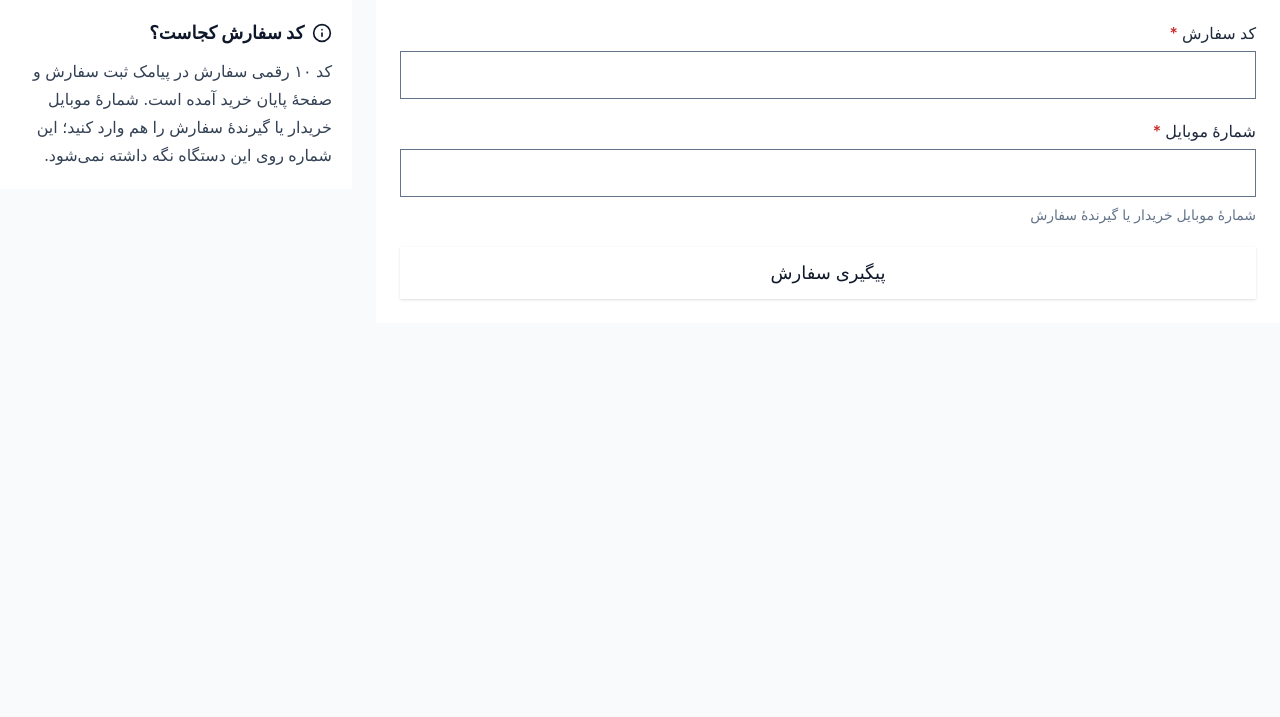
Test: a delivered order (live) › the API’s words, the dates, the count and the total; the heading takes the focus
Type "2583973877" into the field labelled "کد سفارش *" at [828, 75], box x1=401 y1=52 x2=1255 y2=98
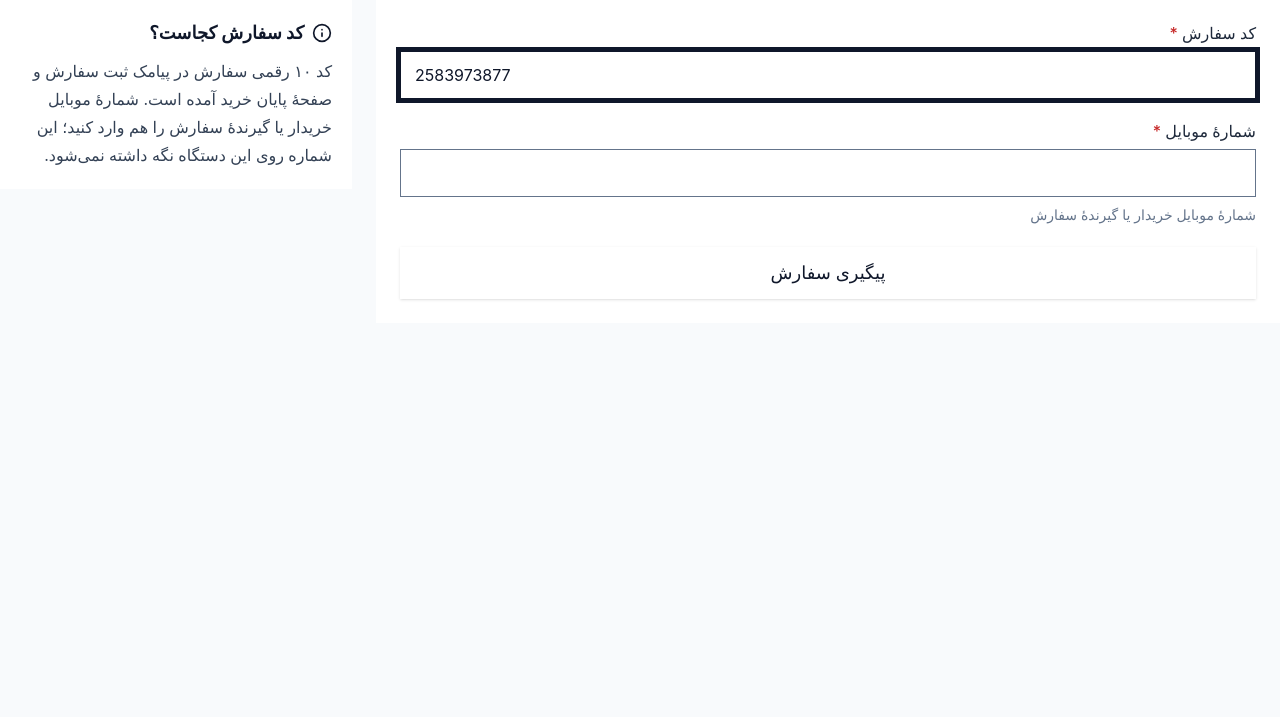
Type "09011234513" into the field labelled "شمارهٔ موبایل *" at [828, 173], box x1=401 y1=150 x2=1255 y2=196
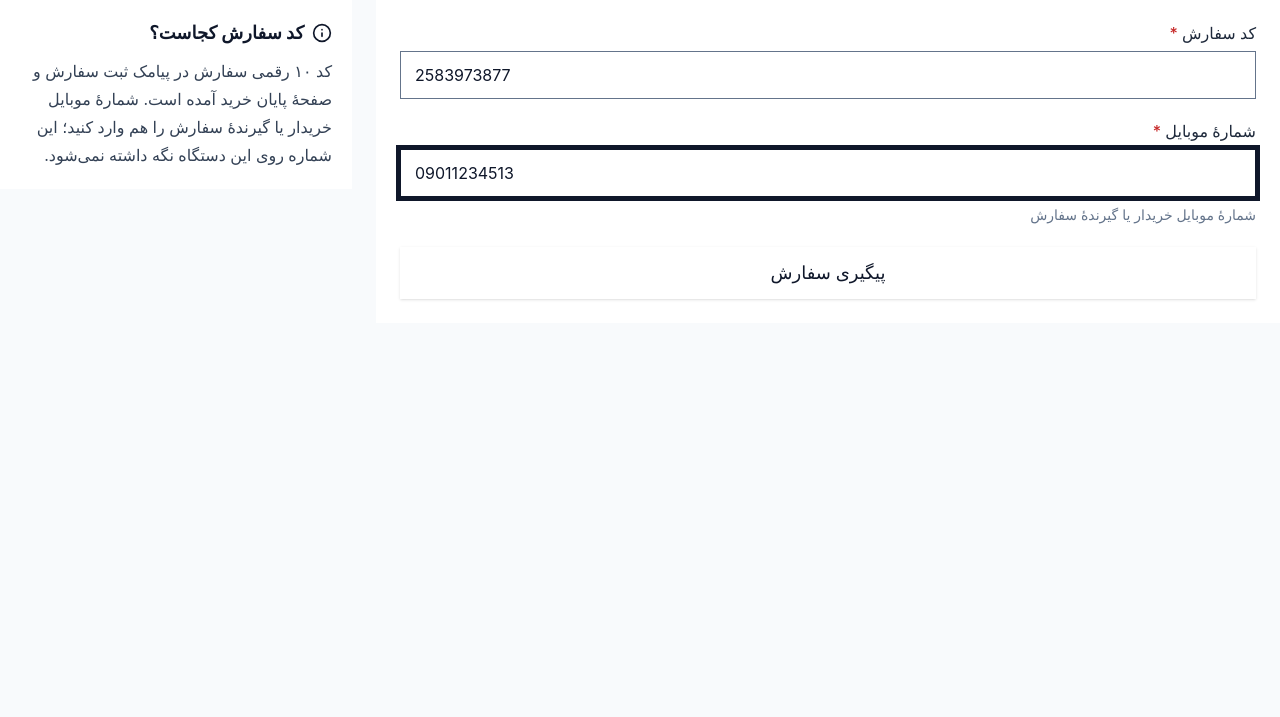
Click the button "پیگیری سفارش" at [828, 273], box x1=400 y1=247 x2=1256 y2=299
(page scrolled)
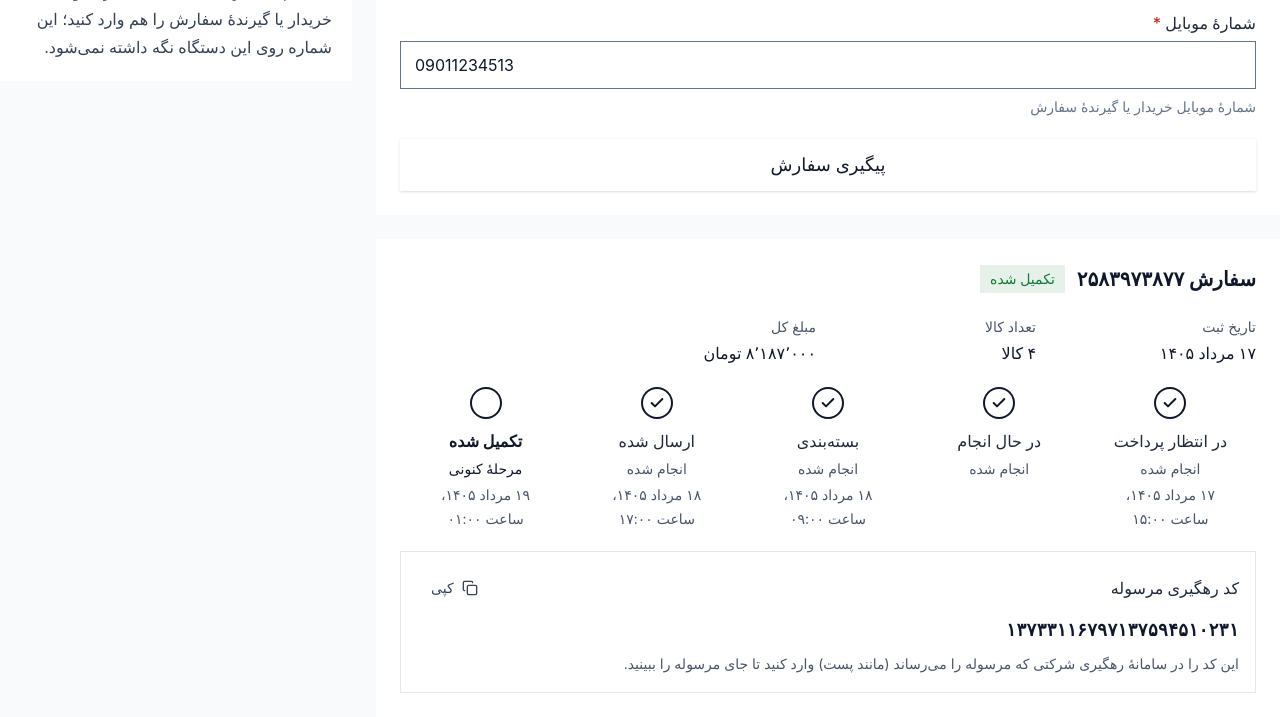
Check: the element that starts with "سفارش" shows "۴ کالا", box x1=1002 y1=343 x2=1036 y2=363
Check: the element that starts with "سفارش" shows "۸٬۱۸۷٬۰۰۰ تومان", box x1=704 y1=343 x2=816 y2=363
